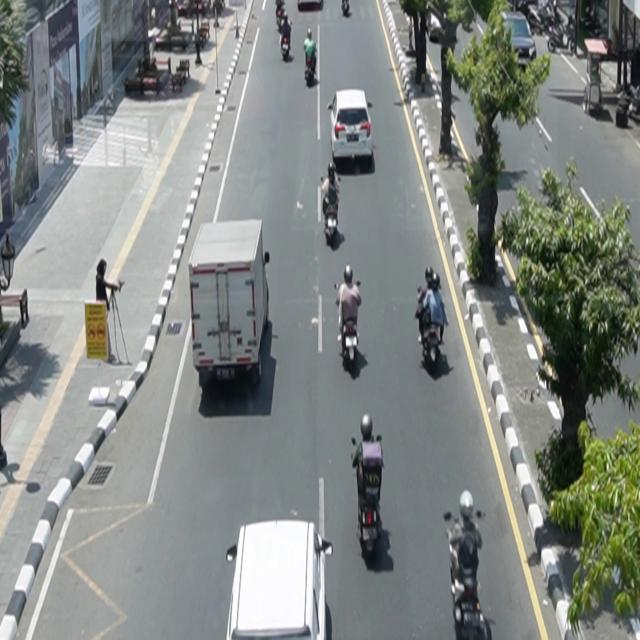car: (226, 519, 334, 640), (328, 89, 373, 166), (495, 11, 538, 70)
truck: (189, 219, 271, 390)
